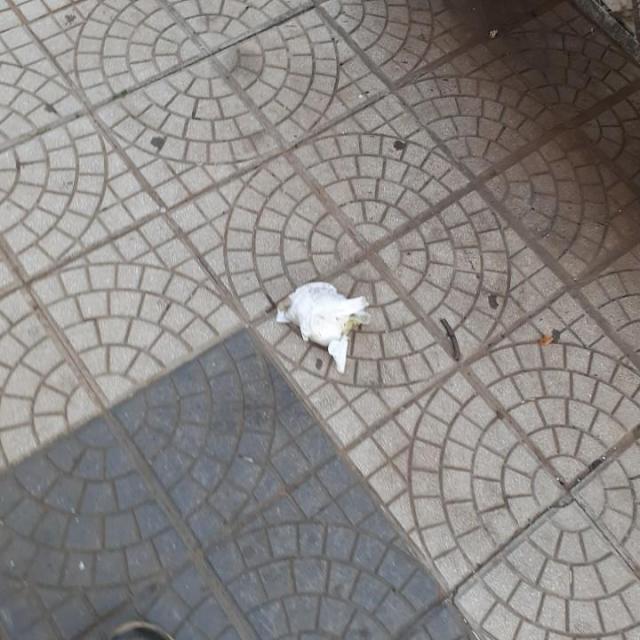litter: (275, 281, 371, 373), (441, 312, 464, 356)
